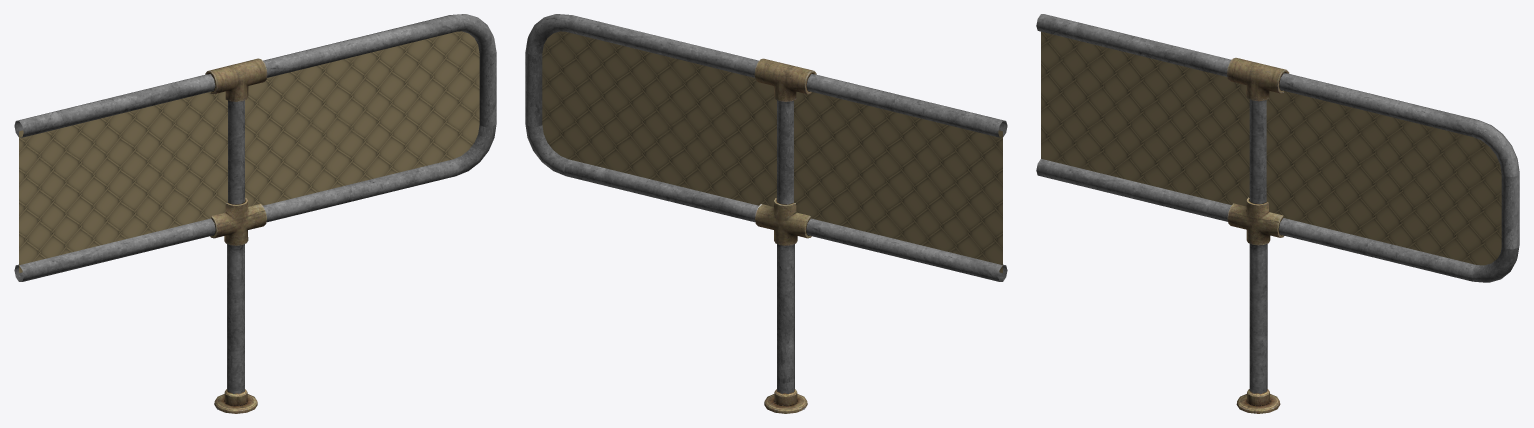
File: railing_pplant_end_chainlink.dae
The picture shows the model from 3 angles, left to right: view 1: azimuth 30°, elevation 25°; view 2: azimuth 150°, elevation 25°; view 3: azimuth 330°, elevation 25°; orthographic projection.
Visible parts, largest first — view 1: railing_pplant_end_chainlink; view 2: railing_pplant_end_chainlink; view 3: railing_pplant_end_chainlink.
Part boxes in pixels (x1,y1,x2,y2): railing_pplant_end_chainlink: (14,14,496,413); railing_pplant_end_chainlink: (525,14,1007,413); railing_pplant_end_chainlink: (1036,14,1519,413).
Size of the model in its own units: 2.2 by 1.49 by 0.1737.
